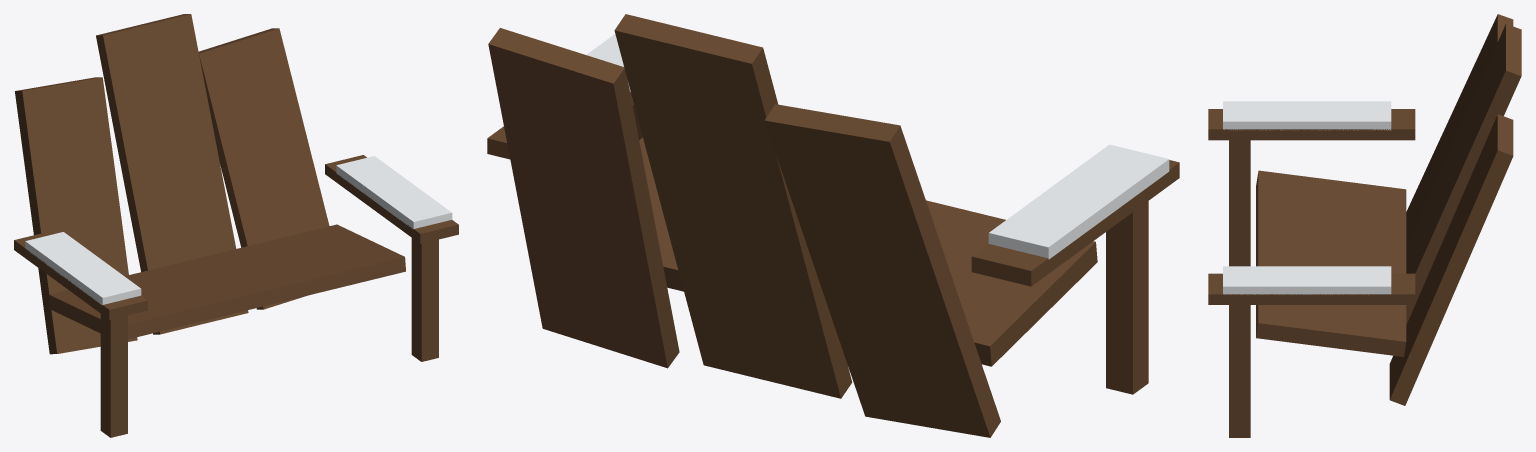
File: bench.glb
3 renders of one model, left to right at view 1: azimuth 30°, elevation 25°; view 2: azimuth 150°, elevation 25°; view 3: azimuth 270°, elevation 25°, orthographic. The views are drawn at different scales.
Parts seen in each view (by area): view 1: bench; view 2: bench; view 3: bench.
Boxes of the visible parts, <box> form: bench: <box>14,14,458,437</box>; bench: <box>487,14,1179,437</box>; bench: <box>1208,14,1521,437</box>.
Bounding box in the file's own units: 1.82 × 1.39 × 1.3.
